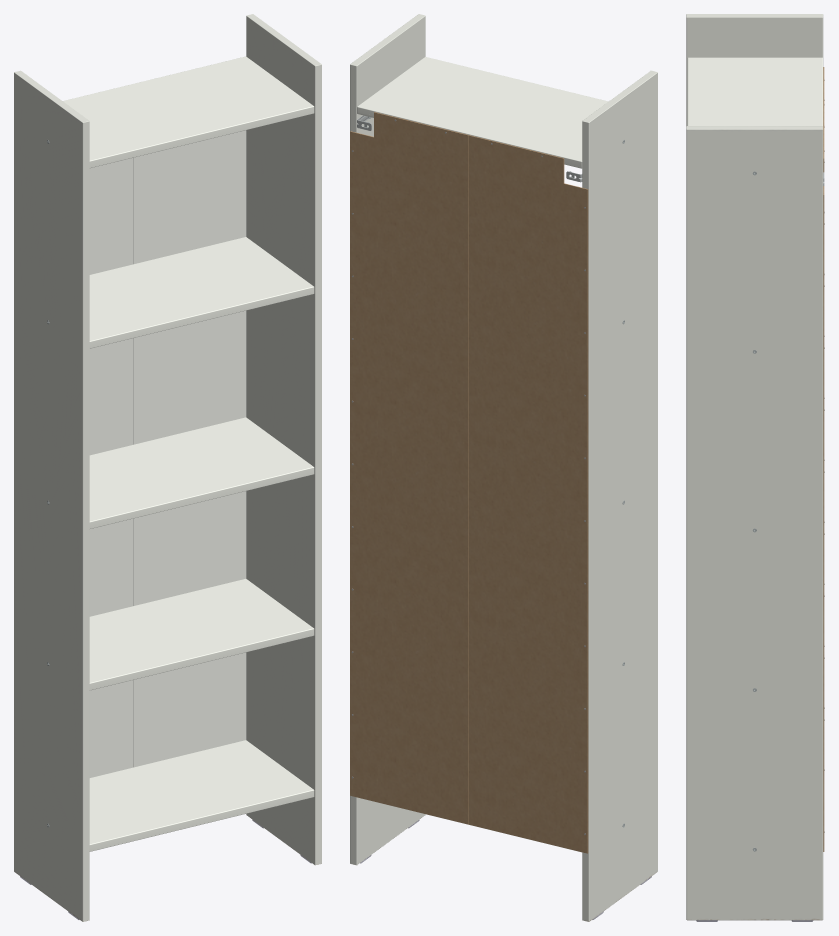
The model's file is 11 - BAGGEBO Bookcase - white 50x25x160 cm.glb.
3 renders of one model, left to right at view 1: azimuth 30°, elevation 25°; view 2: azimuth 150°, elevation 25°; view 3: azimuth 270°, elevation 25°, orthographic.
Bounding box in the file's own units: 0.501 × 1.6 × 0.2525.
1 material, 1 textured.
